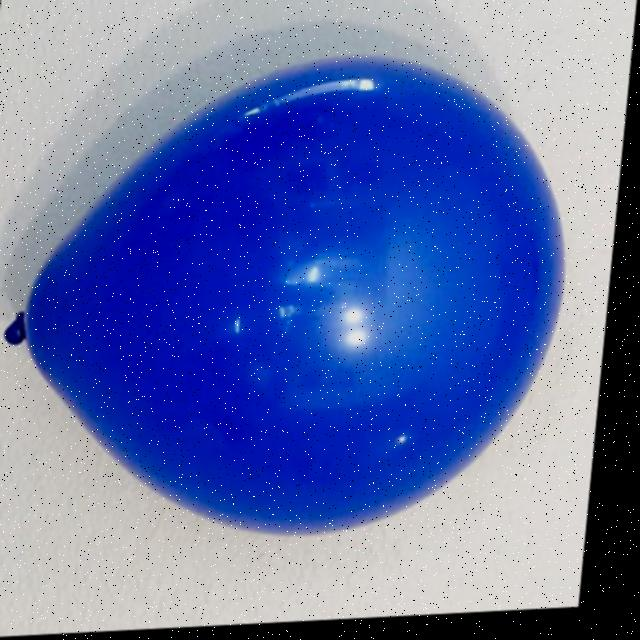balloon: (0, 47, 593, 559)
